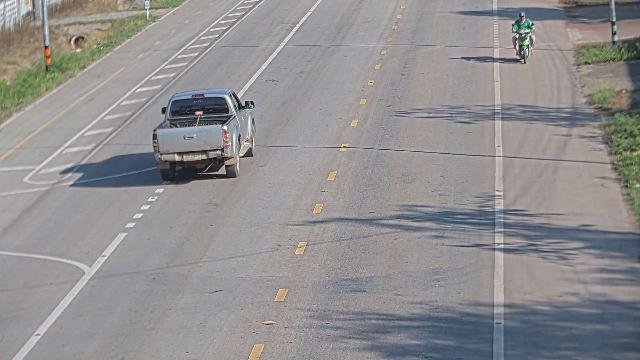motorcycle: (509, 14, 540, 66)
pickup-truck: (151, 87, 257, 181)
